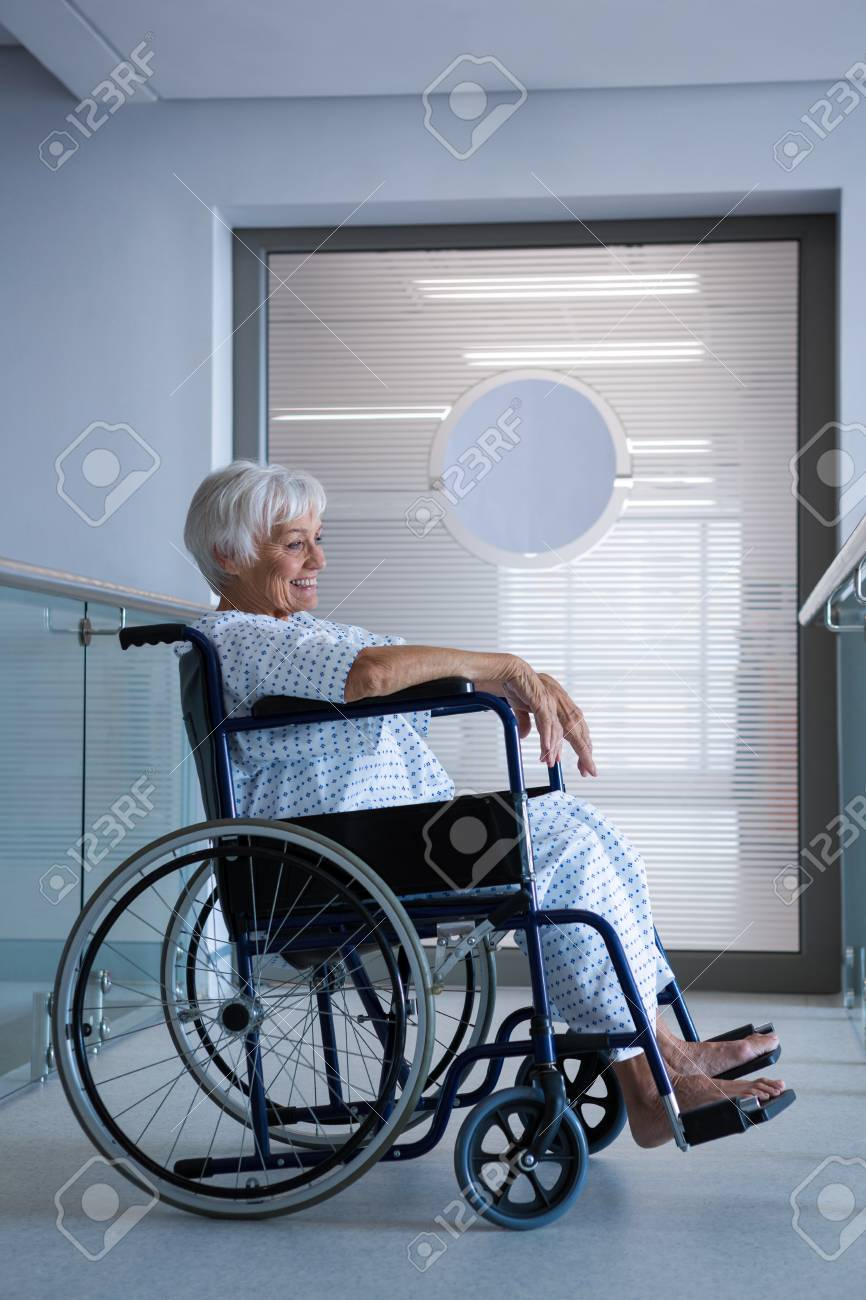wheelchair: (50, 456, 796, 1226)
